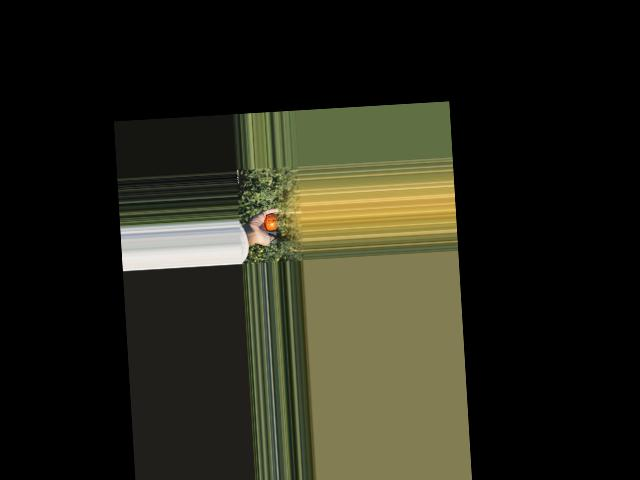tomato: (264, 213, 279, 230)
